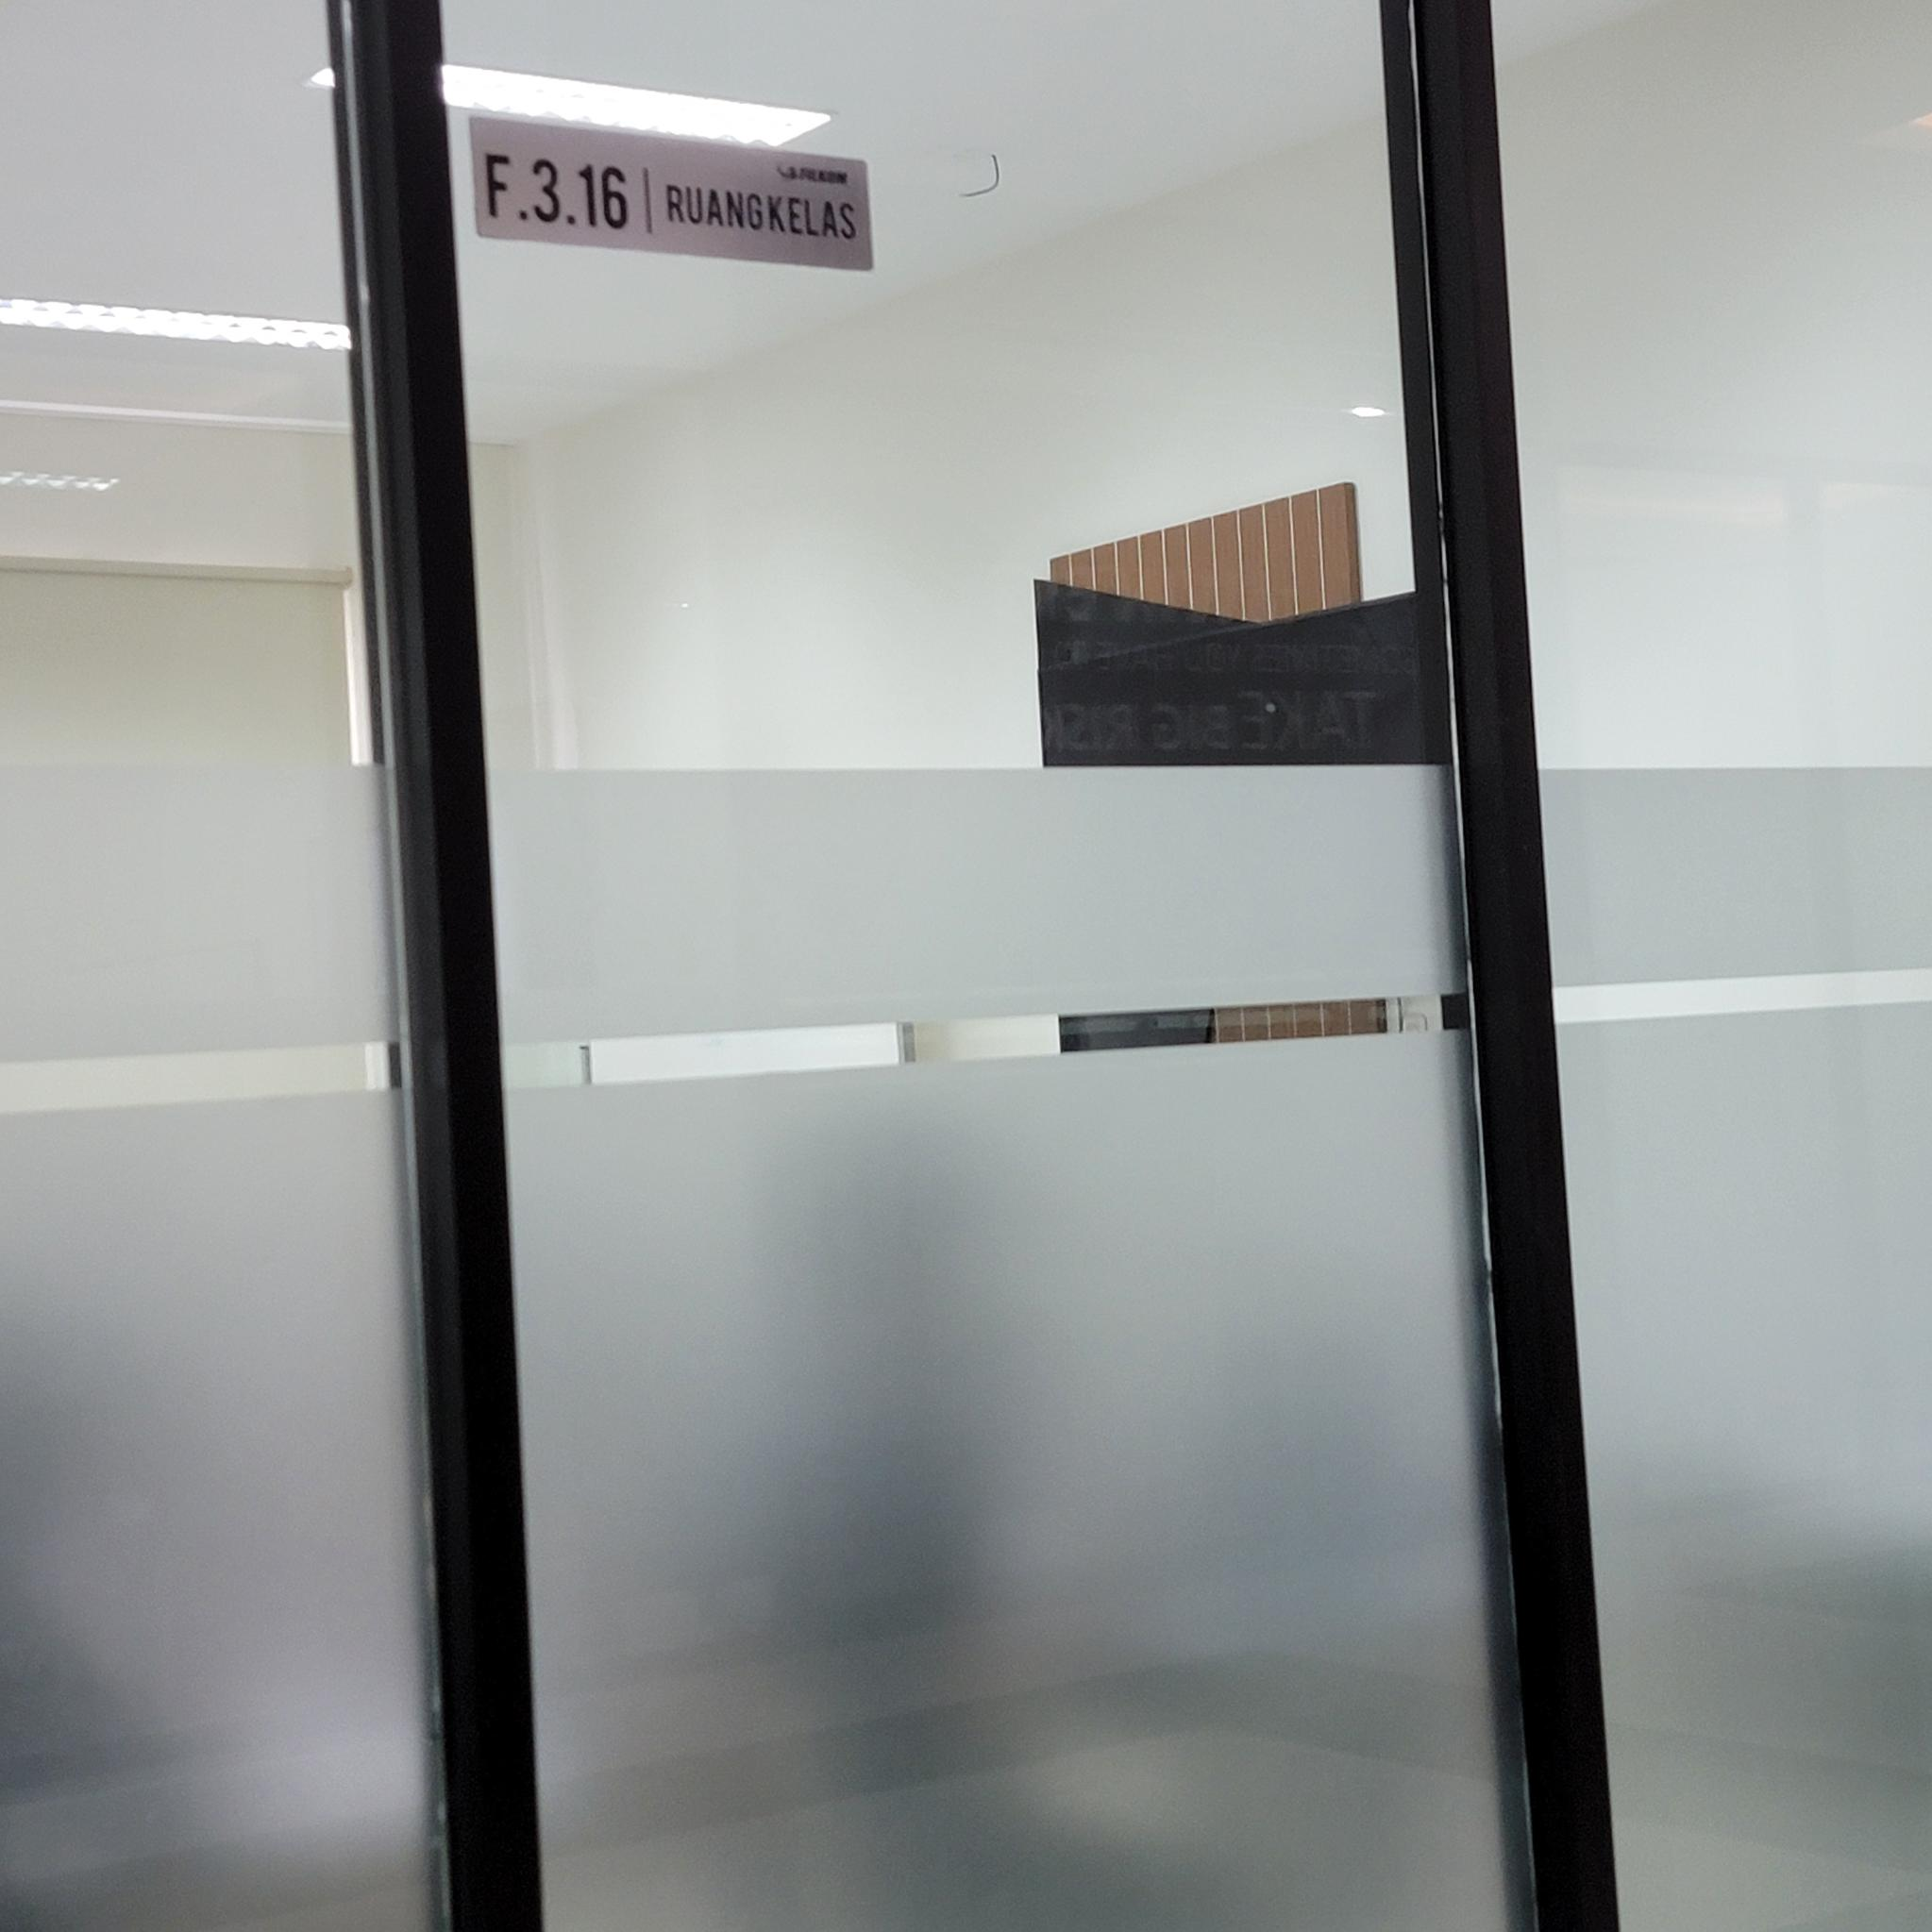plate: (469, 117, 872, 272)
